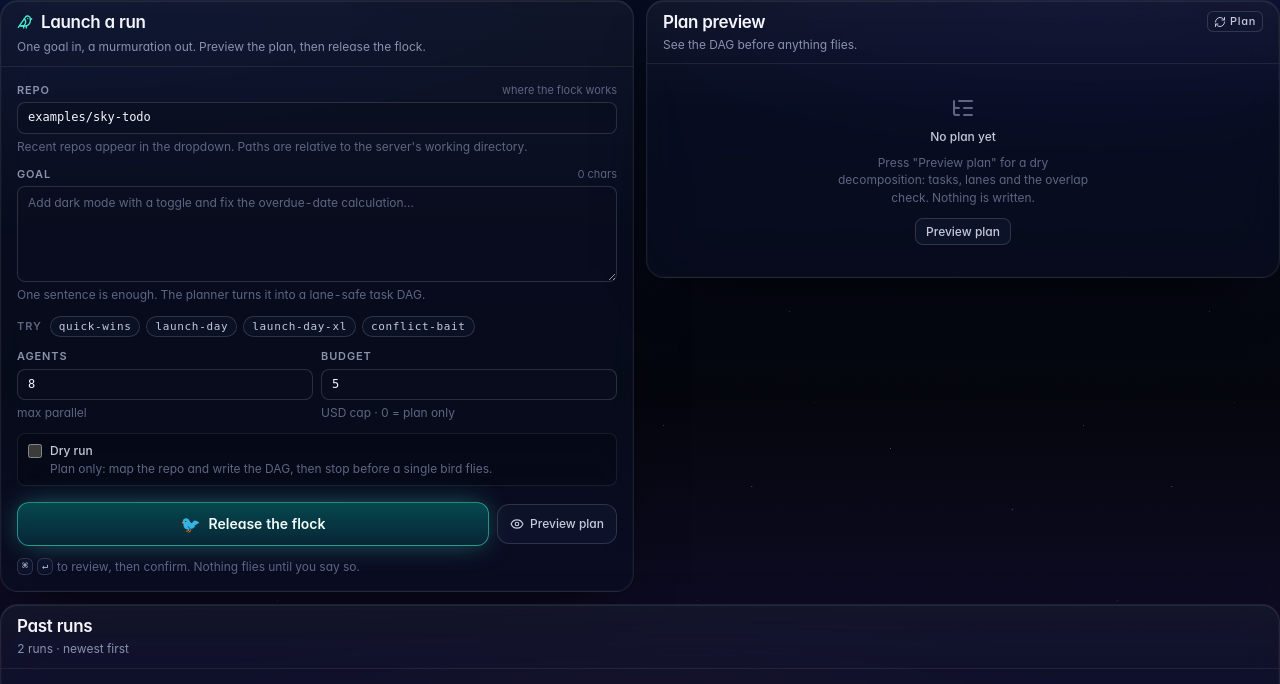
launch form › validation blocks the gate and points at the empty fields
Step 1. Clear the field with test id "launch-repo" → (317, 118), box [17, 102, 617, 134]
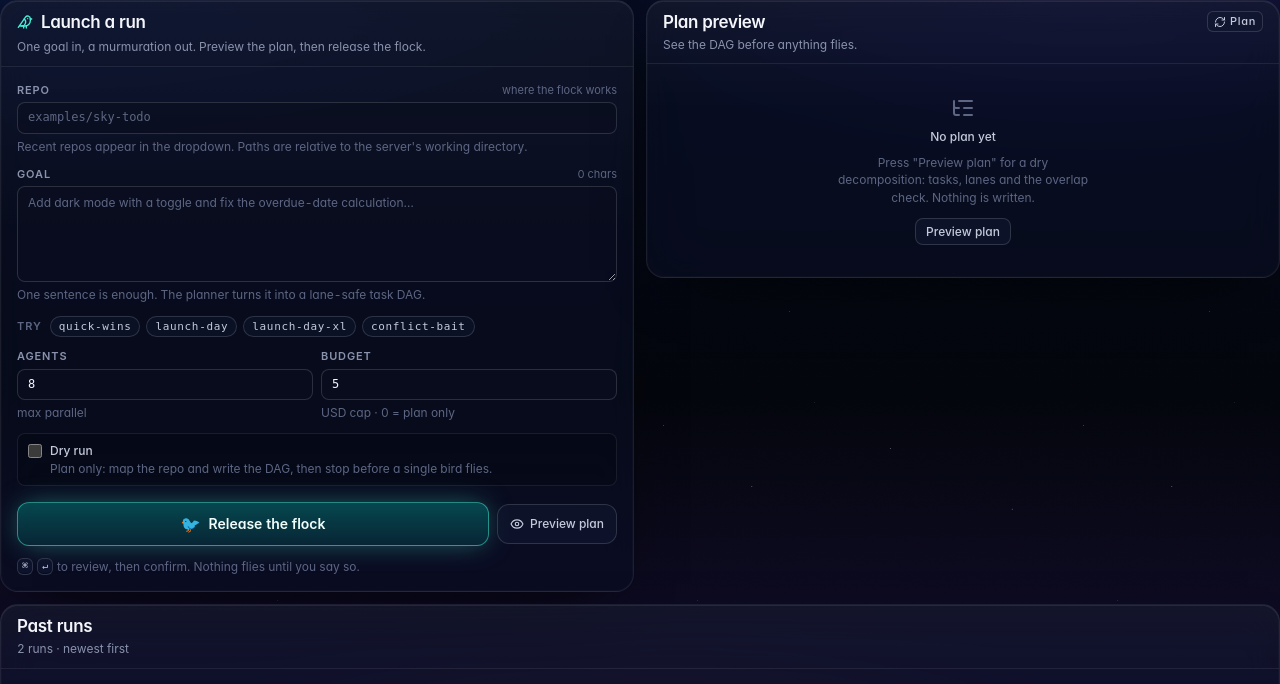
Step 2. Click the button with test id "launch-release" → (253, 524), box [17, 502, 489, 546]
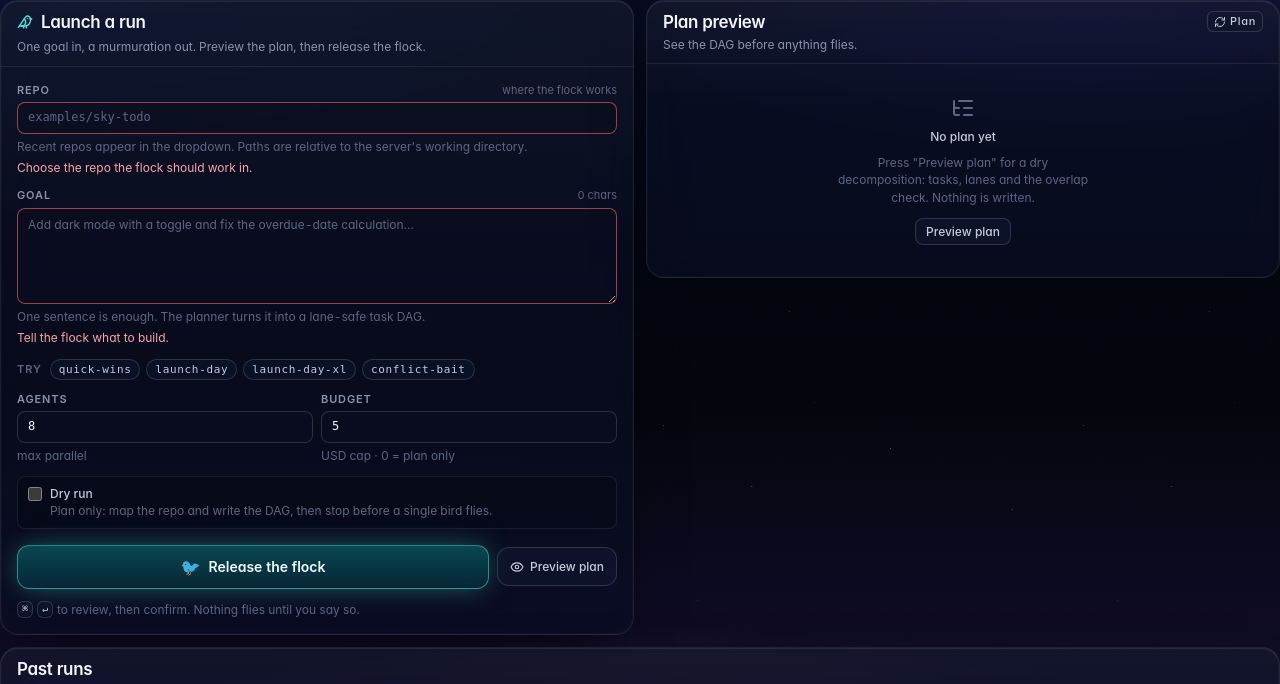
Expected: the message with test id "launch-repo-error" shows "Choose the repo", [17, 160, 252, 175]
Expected: the message with test id "launch-goal-error" shows "Tell the flock", [17, 330, 169, 345]
